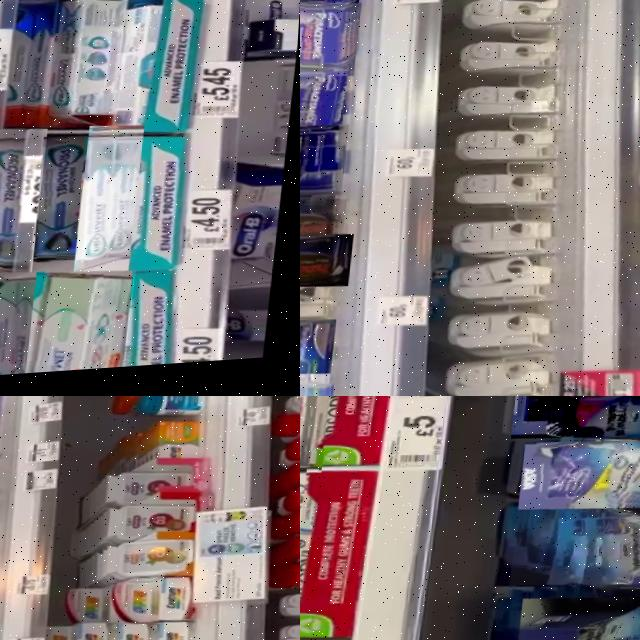Other: (515, 505, 640, 599), (522, 438, 640, 523), (514, 396, 640, 451), (99, 536, 200, 590), (117, 578, 207, 638), (521, 595, 640, 640), (300, 1, 364, 84), (101, 503, 205, 551), (101, 471, 197, 520), (300, 123, 355, 197), (300, 231, 359, 295), (300, 67, 351, 141), (66, 584, 134, 633), (300, 318, 342, 391), (300, 196, 351, 247), (154, 422, 199, 476), (141, 396, 212, 426), (44, 624, 125, 640), (125, 396, 200, 412), (147, 622, 205, 640), (273, 414, 300, 450), (113, 621, 162, 640), (284, 536, 300, 574), (285, 487, 300, 524), (284, 443, 300, 473), (286, 565, 300, 597), (286, 516, 300, 545), (289, 463, 300, 495)
Toothpaste: (34, 271, 144, 379), (80, 128, 150, 281), (34, 139, 97, 268), (0, 129, 52, 279), (300, 396, 341, 478)
